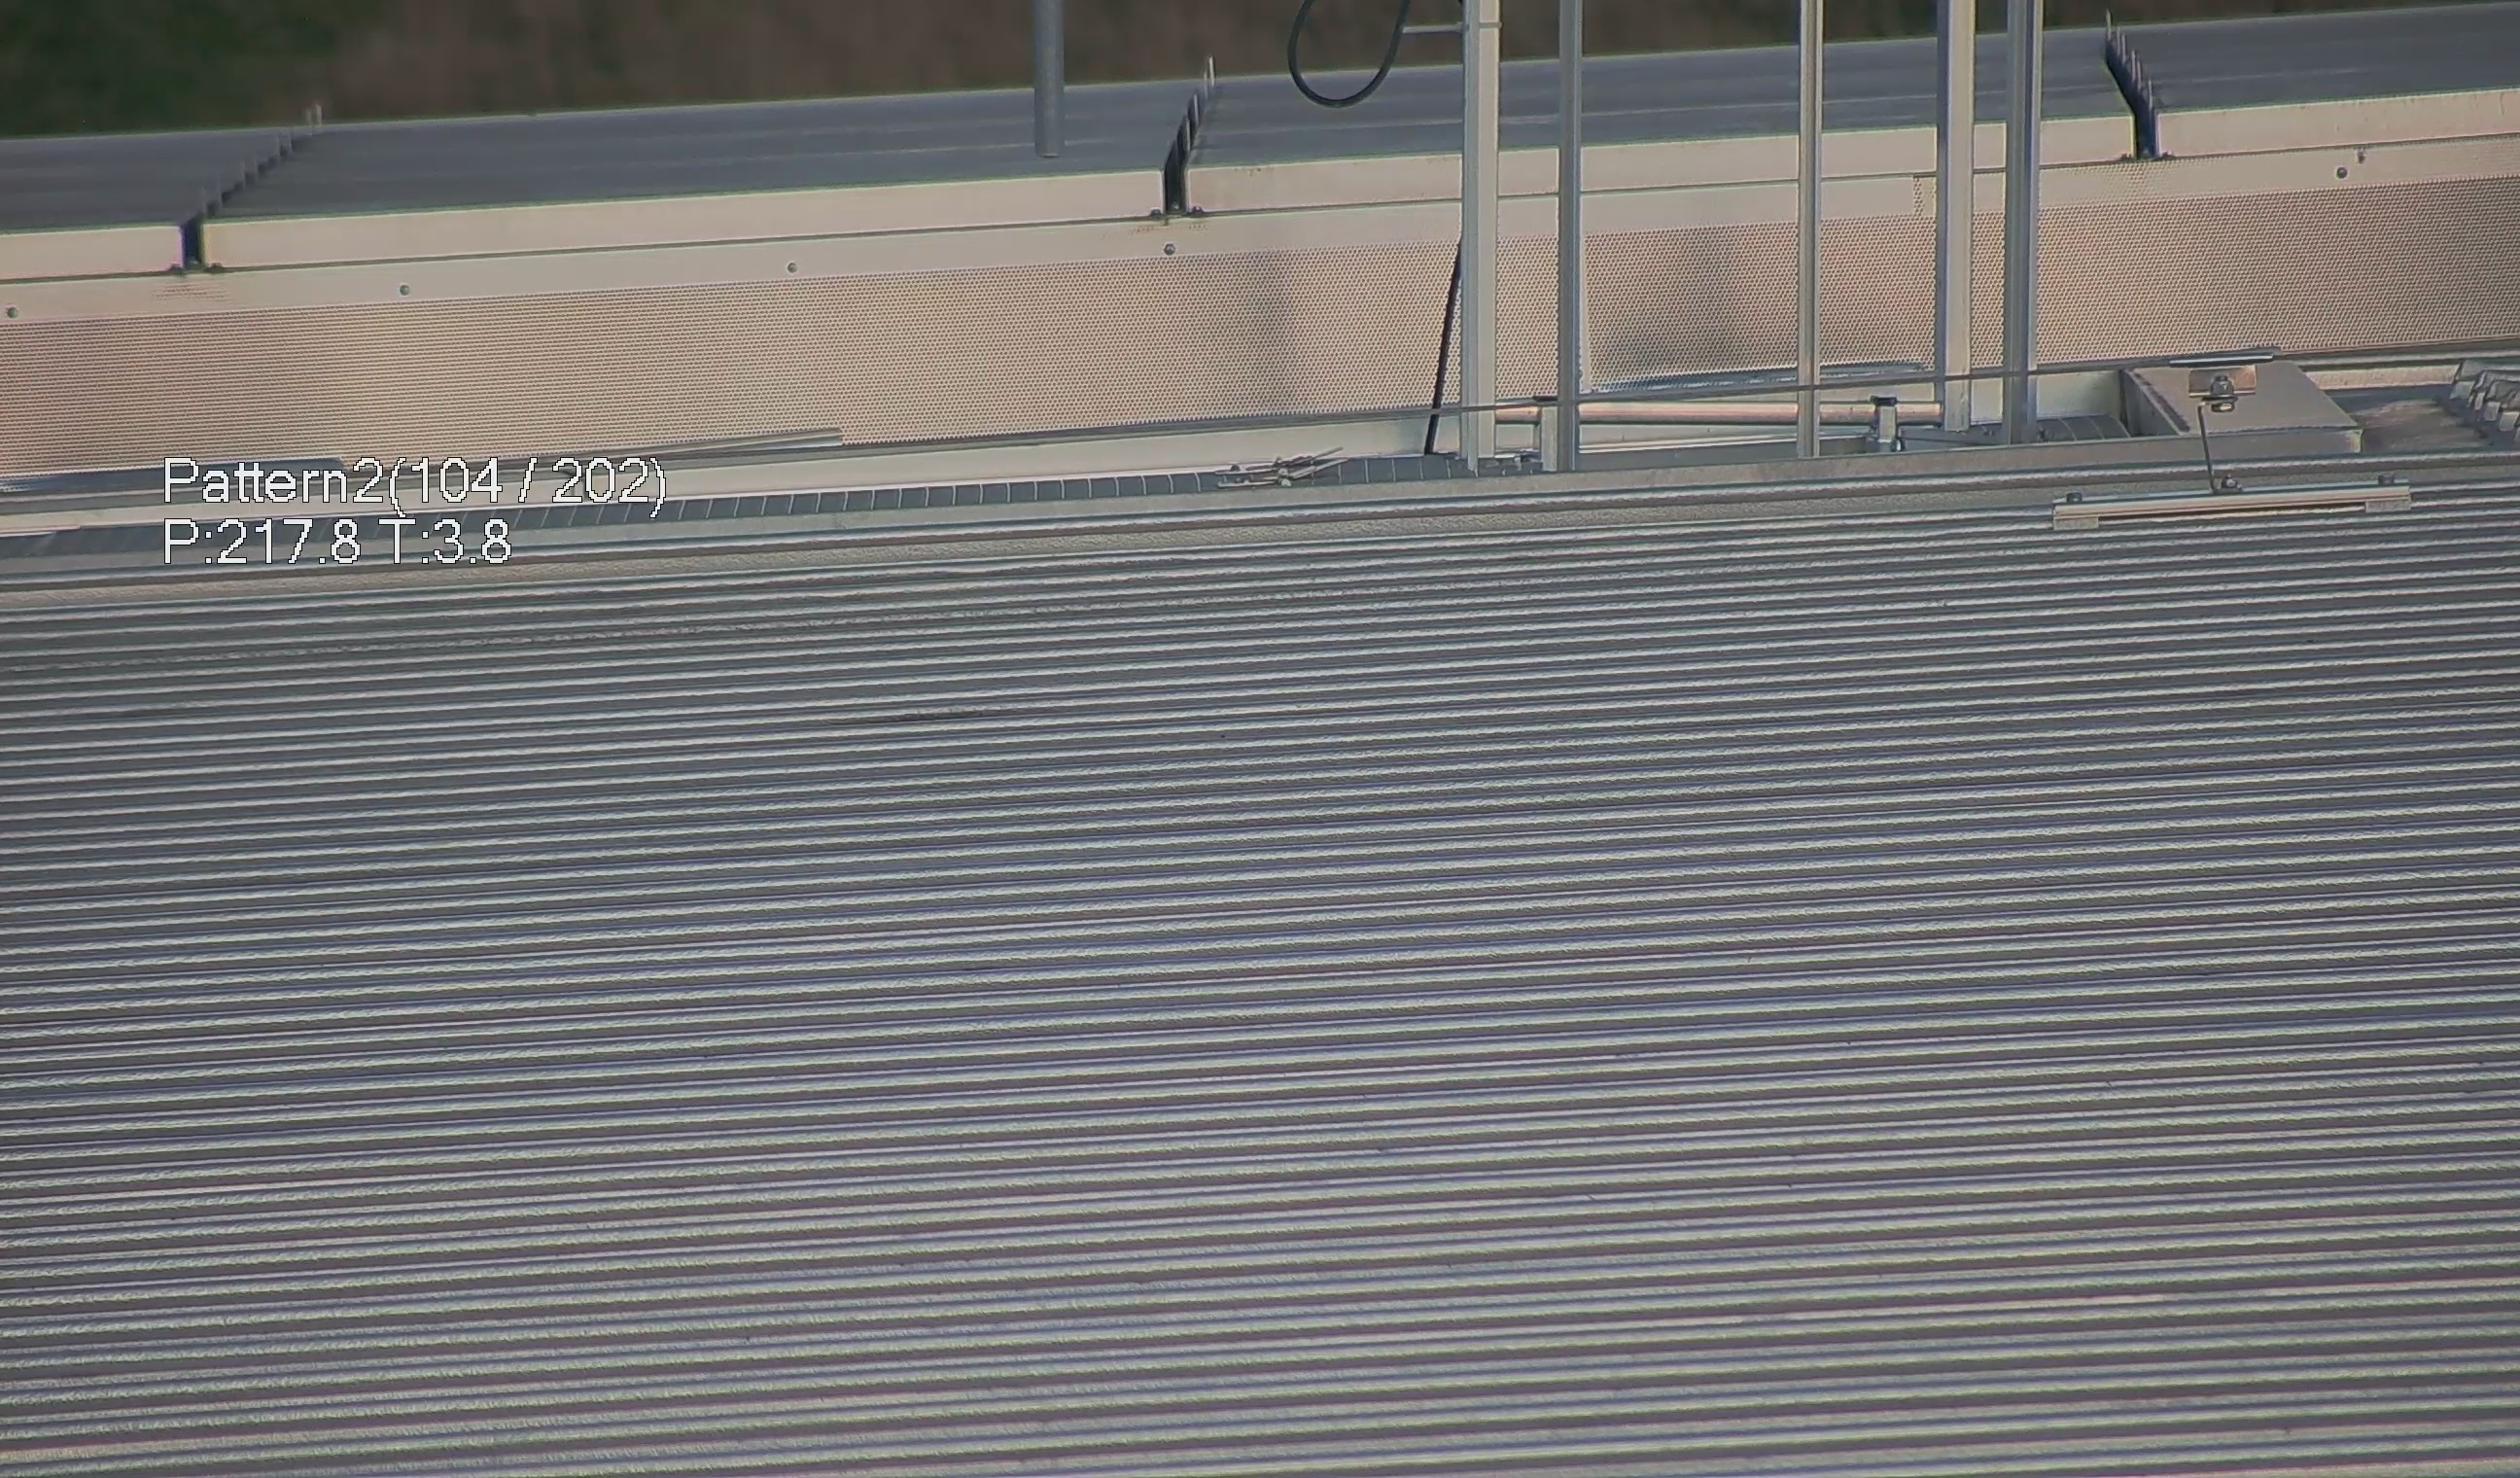Other: (2101, 11, 2186, 171)
